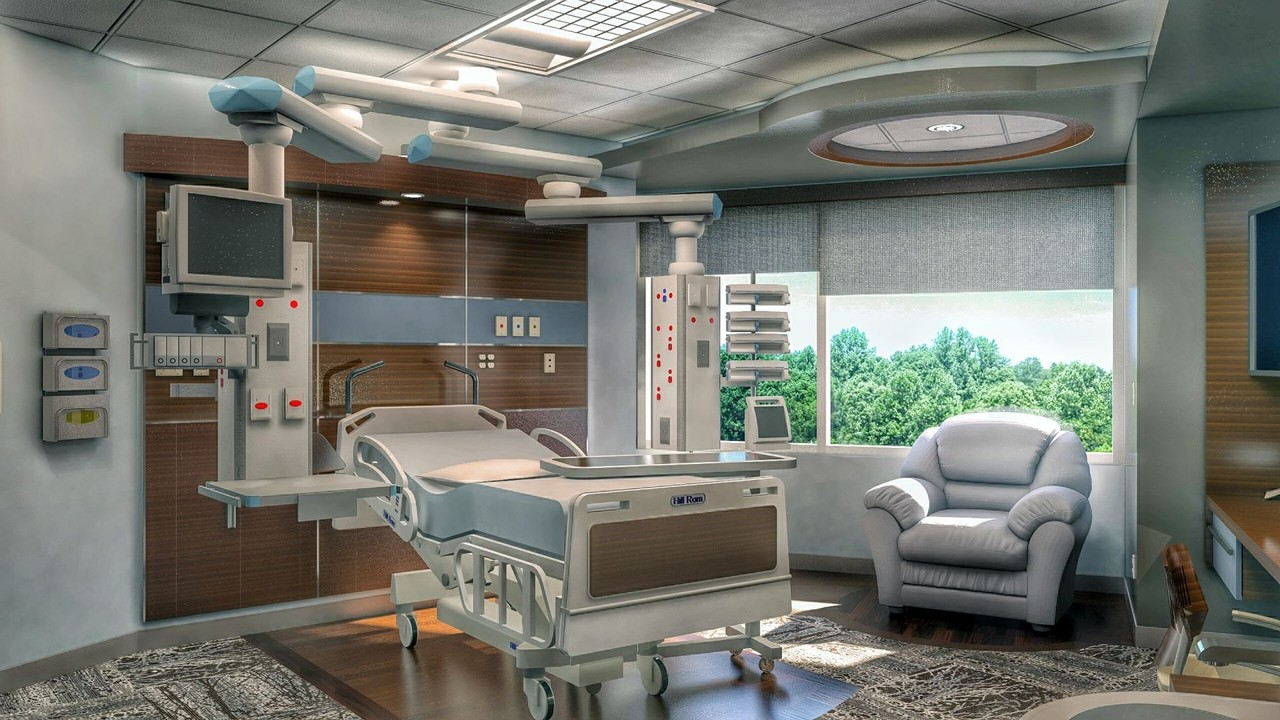bedrail: (353, 437, 418, 542), (528, 428, 588, 455)
cabinet: (1240, 197, 1277, 384)
chair: (1139, 536, 1277, 683)
computer: (156, 184, 291, 299)
dispenser: (43, 393, 108, 442), (45, 310, 110, 350), (47, 356, 105, 396)
foot_board: (555, 475, 791, 657)
handle: (1202, 519, 1232, 560)
hospital_bed: (337, 396, 799, 720)
overbed_table: (540, 450, 797, 673)
sofa: (862, 411, 1093, 634)
